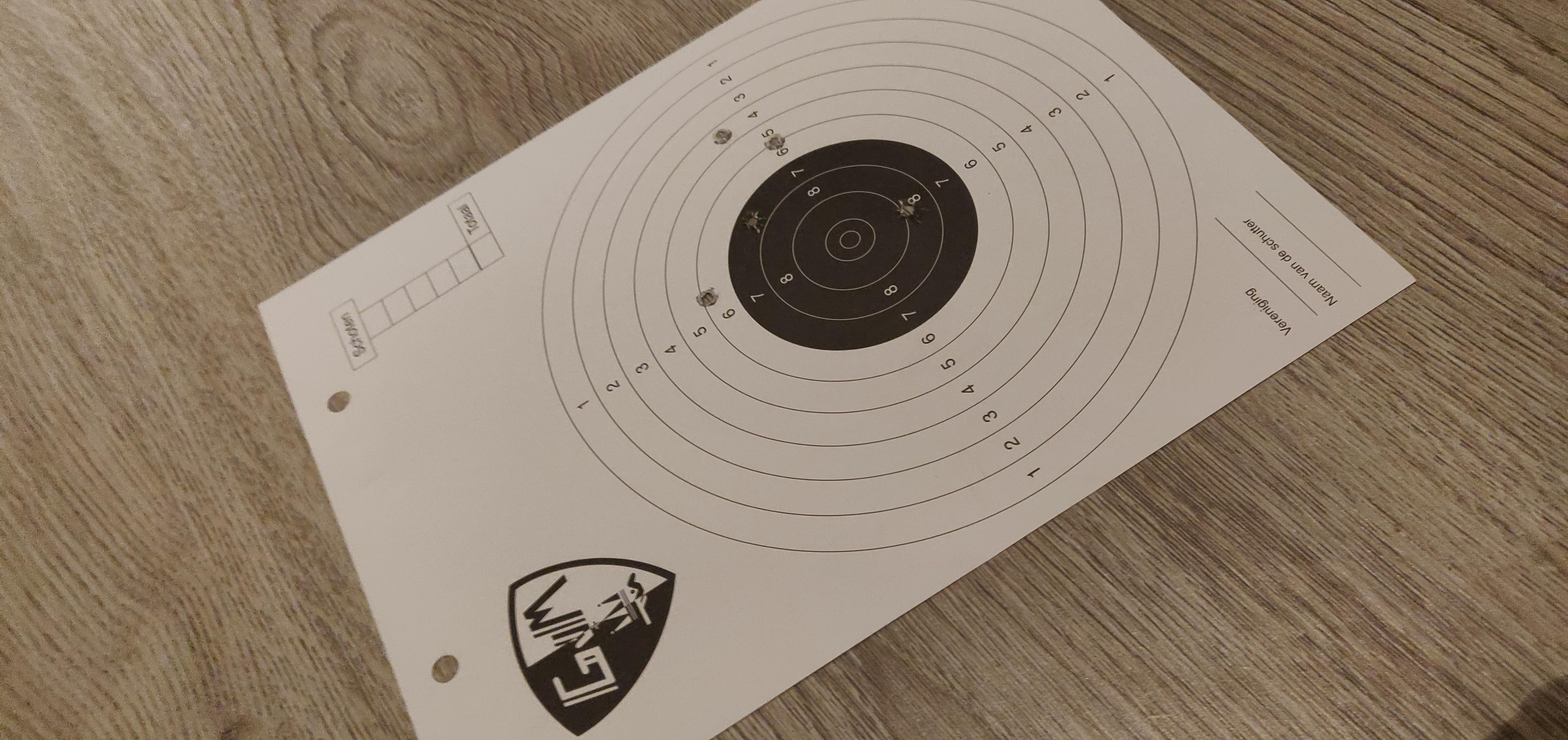hole: (894, 198, 928, 225), (739, 207, 767, 236), (695, 287, 720, 308), (763, 132, 787, 151), (712, 127, 734, 146)
